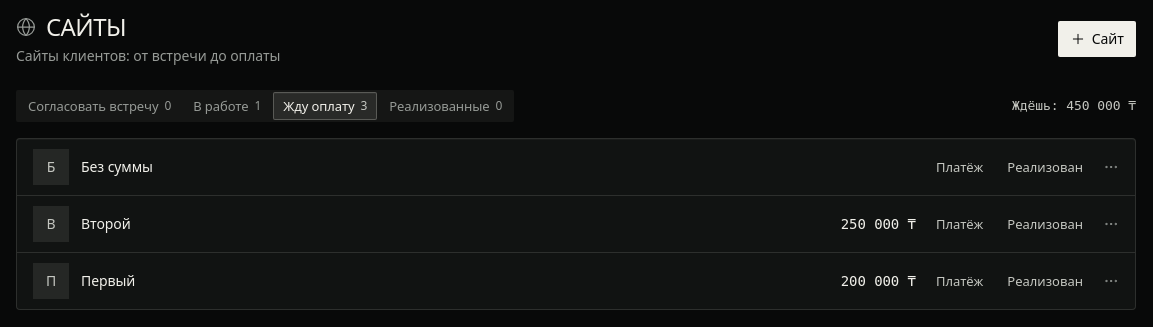
it: SitesPage › «Жду оплату» sums up what is expected
This screenshot has width=1153, height=327.
Expected: the text "Ждёшь: 450 000 ₸" is shown, [1012,97,1136,115]
на других вкладках итога нет
Click the tab "В работе 1". click: (227, 106)
box: [183,92,271,120]
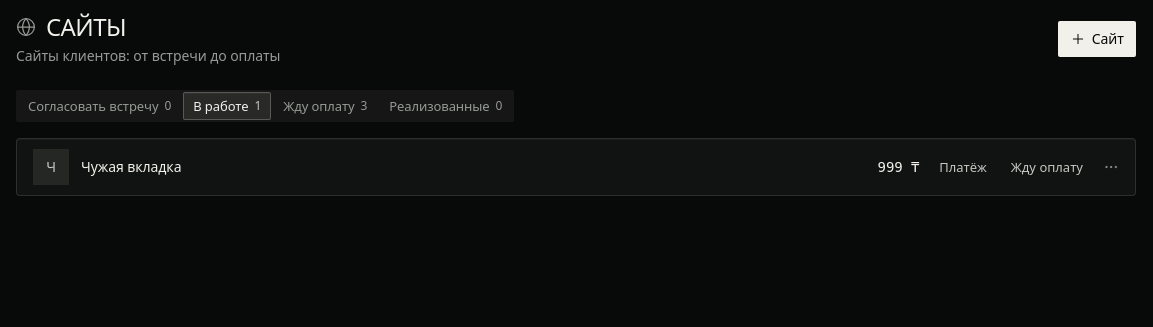
Now the text "Ждёшь:" is gone
